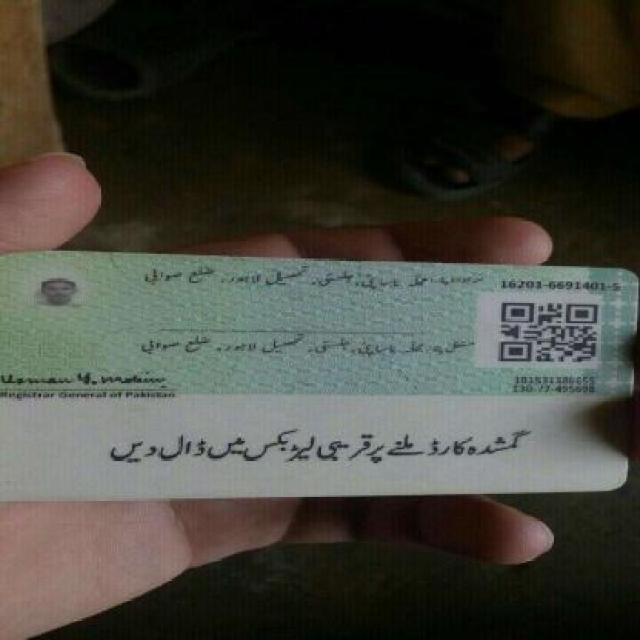Back: (6, 245, 634, 497)
